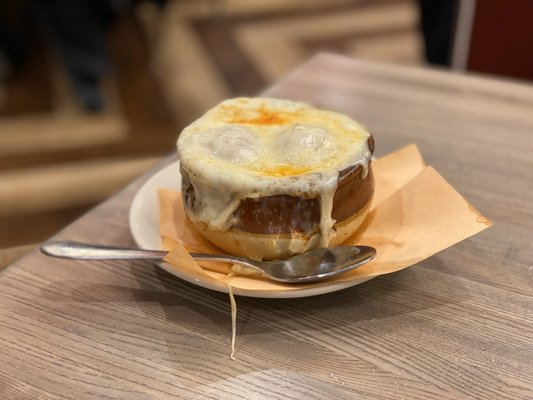salad: (161, 244, 376, 286)
soup: (176, 96, 376, 261)
